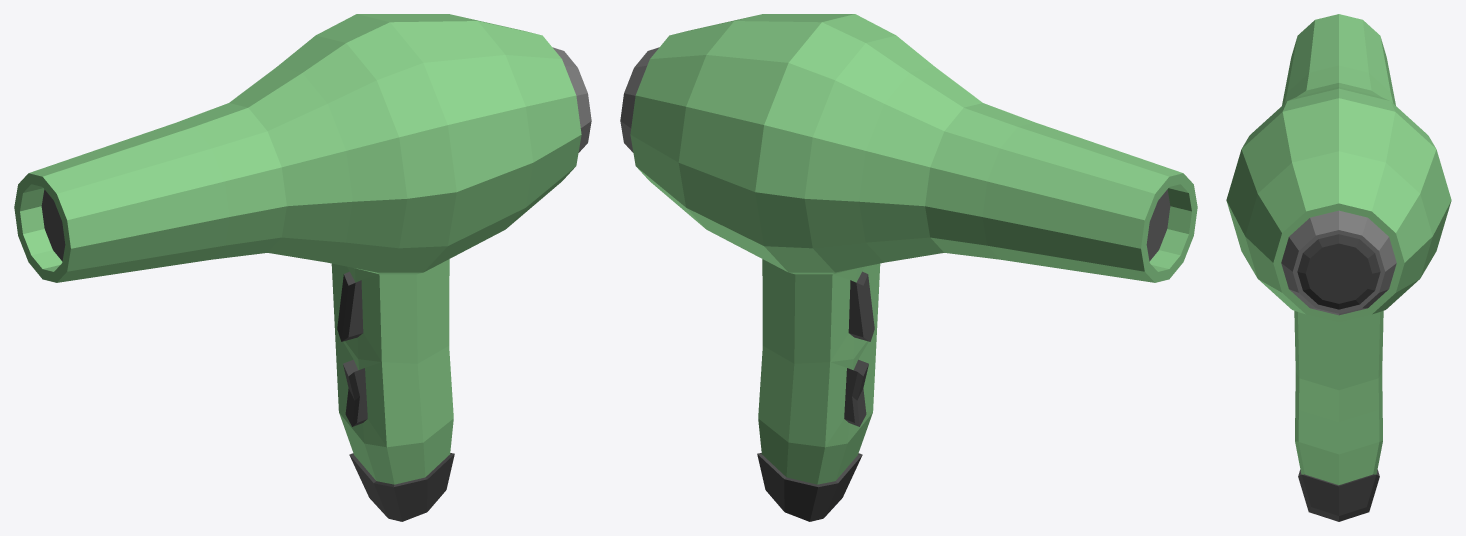
The model's file is Hair Dryer.fbx.
3 renders of one model, left to right at view 1: azimuth 30°, elevation 25°; view 2: azimuth 150°, elevation 25°; view 3: azimuth 270°, elevation 25°, orthographic. The views are drawn at different scales.
Visible parts, largest first — view 1: Hair Dryer; view 2: Hair Dryer; view 3: Hair Dryer.
Part boxes in pixels (<box>): Hair Dryer: <box>14,14,591,521</box>; Hair Dryer: <box>620,14,1197,521</box>; Hair Dryer: <box>1226,14,1451,521</box>.
Size of the model in its own units: 194 by 175 by 85.54.
